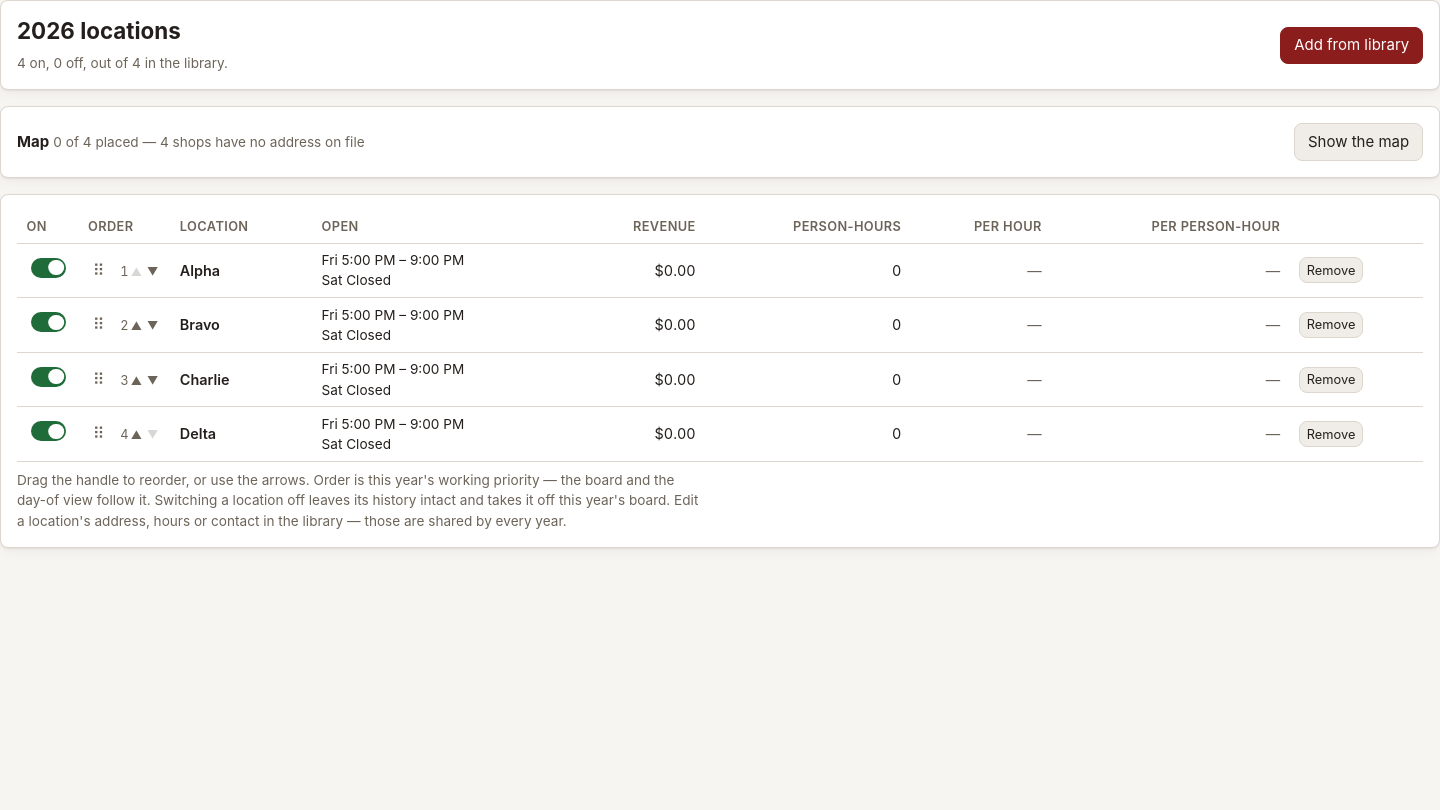
Test: failures › reports a rejected reorder rather than appearing to have worked
Click the button "▲" next to "Charlie".
click(137, 381)  # box [128, 376, 145, 387]
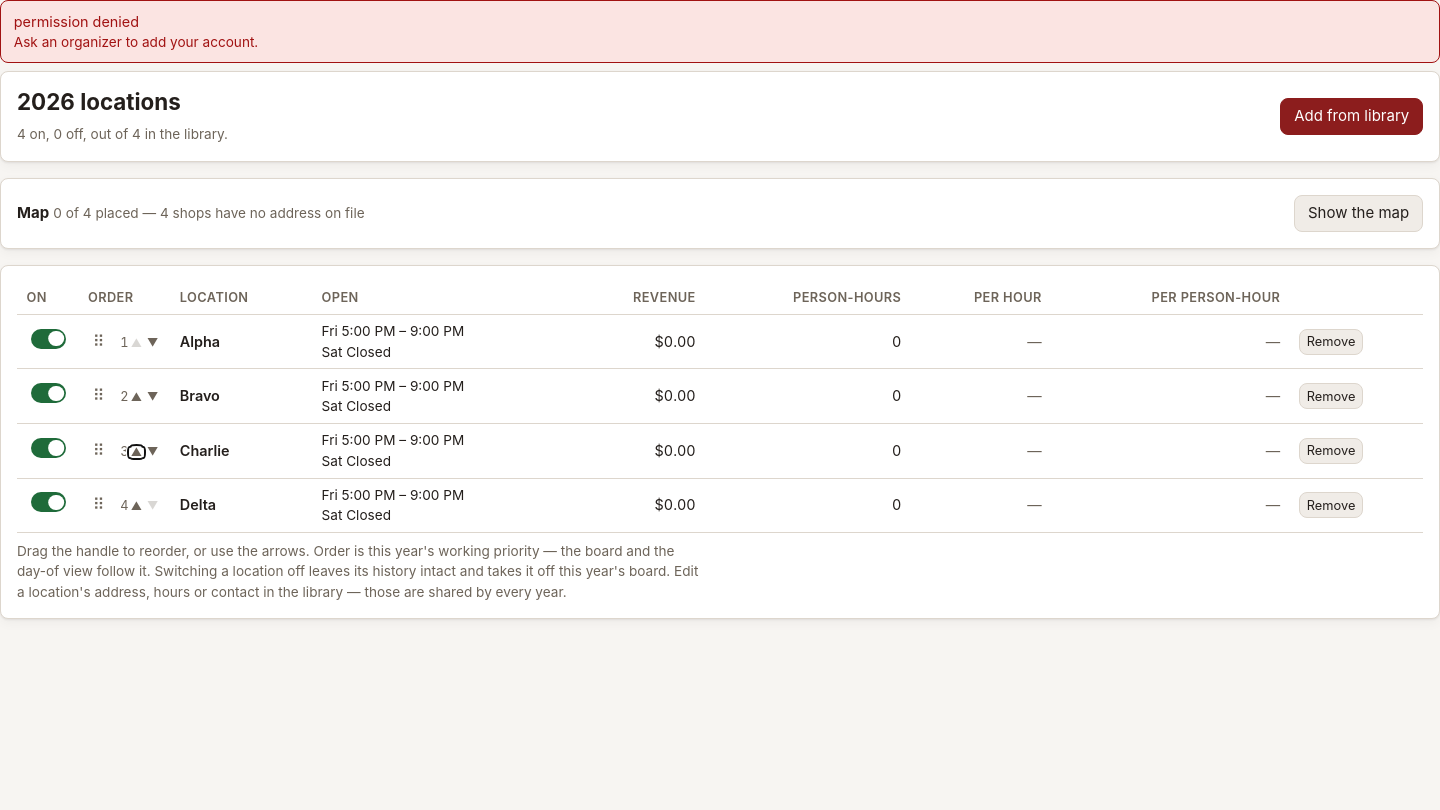
Result: the text "permission denied Ask an organizer to add your account." is shown at [0, 0, 1439, 63]
